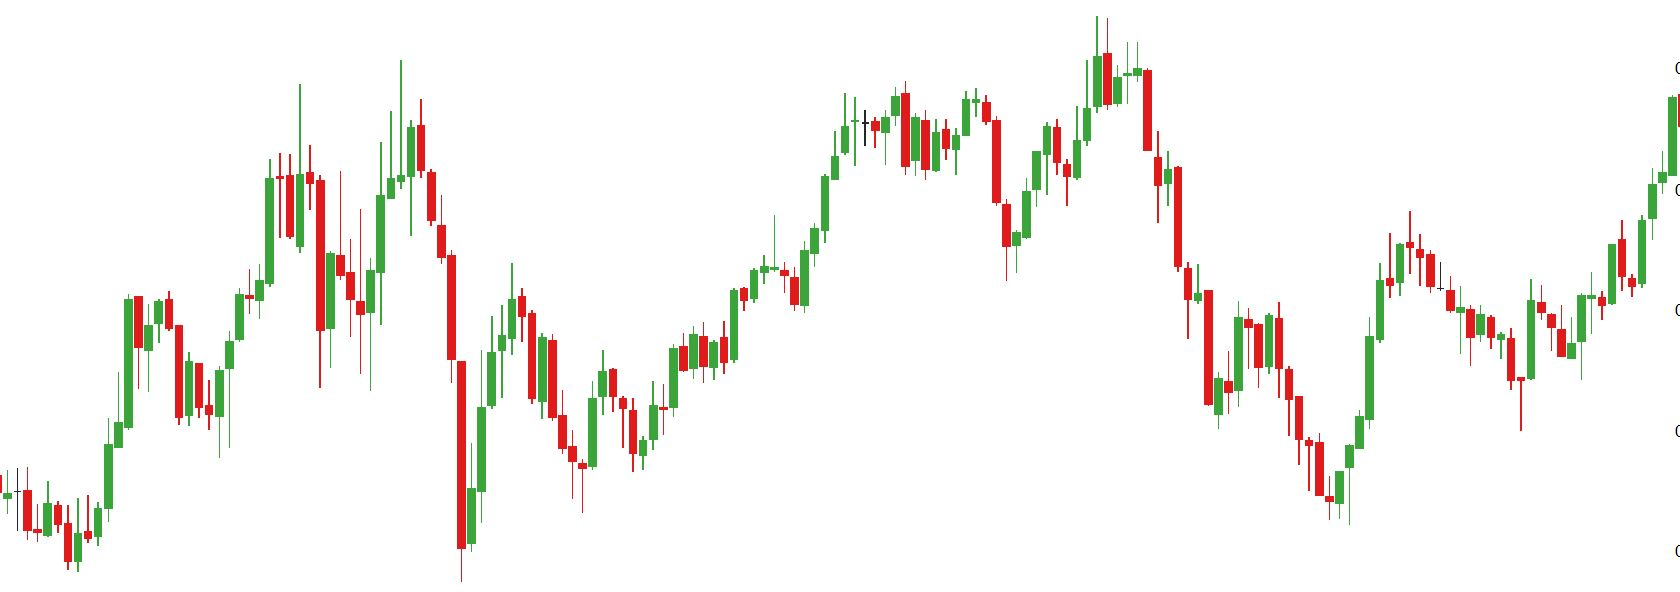buy: (346, 240, 498, 579)
sell: (962, 12, 1113, 197), (285, 57, 426, 234)
